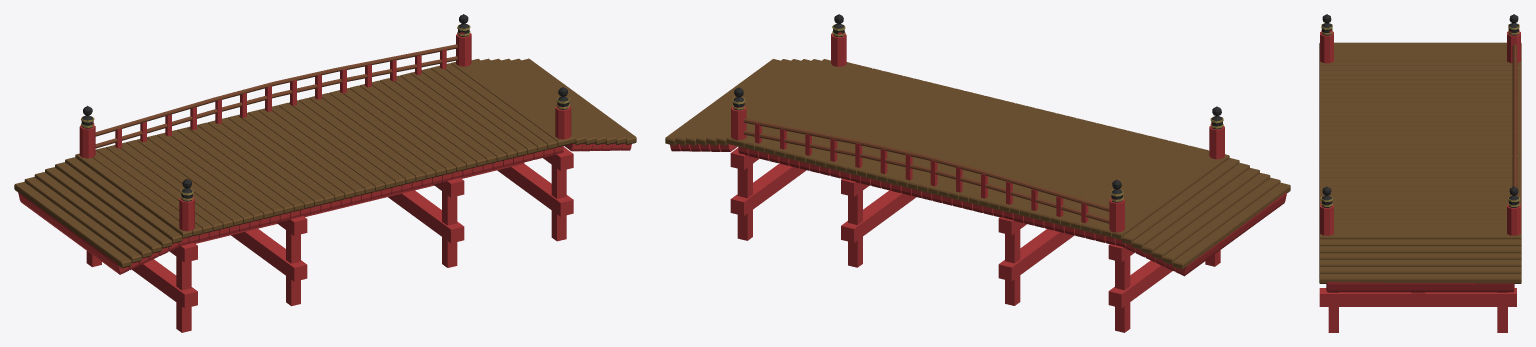
The model's file is bridge.fbx.
The picture shows the model from 3 angles, left to right: view 1: azimuth 30°, elevation 25°; view 2: azimuth 150°, elevation 25°; view 3: azimuth 270°, elevation 25°; orthographic projection. The views are drawn at different scales.
Parts seen in each view (by area): view 1: Bridge; view 2: Bridge; view 3: Bridge.
Part boxes in pixels (left/top/right/bottom): Bridge: left=14, top=14, right=636, bottom=332; Bridge: left=665, top=14, right=1290, bottom=332; Bridge: left=1319, top=14, right=1521, bottom=332.
Size of the model in its own units: 2479 by 707 by 899.
